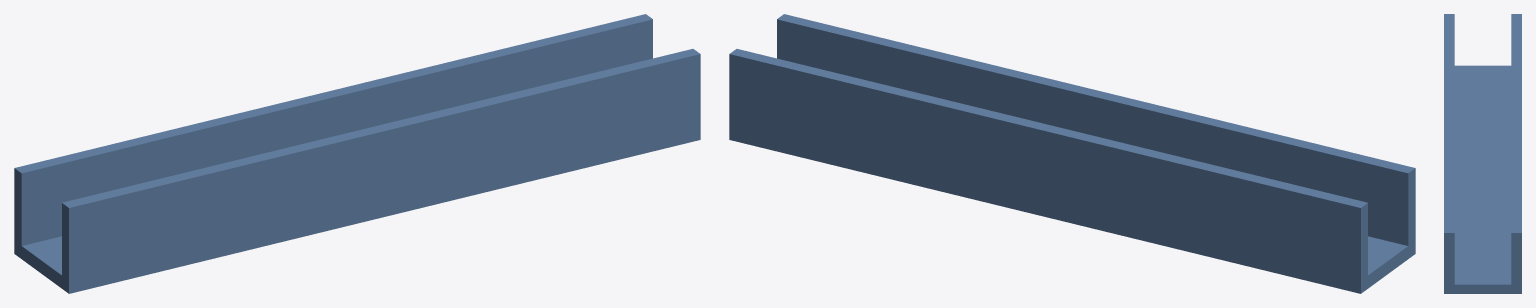
The model's file is Gutter.fbx.
3 views of the same model, side by side, from view 1: azimuth 30°, elevation 25°; view 2: azimuth 150°, elevation 25°; view 3: azimuth 270°, elevation 25° (orthographic). The views are drawn at different scales.
Parts seen in each view (by area): view 1: Gutter; view 2: Gutter; view 3: Gutter.
Boxes of the visible parts, x1,y1,x2,y2 form: Gutter: (14, 14, 700, 293); Gutter: (729, 14, 1415, 293); Gutter: (1444, 14, 1521, 293).
Size of the model in its own units: 1 by 0.13 by 0.15.
1 material, 1 textured.
